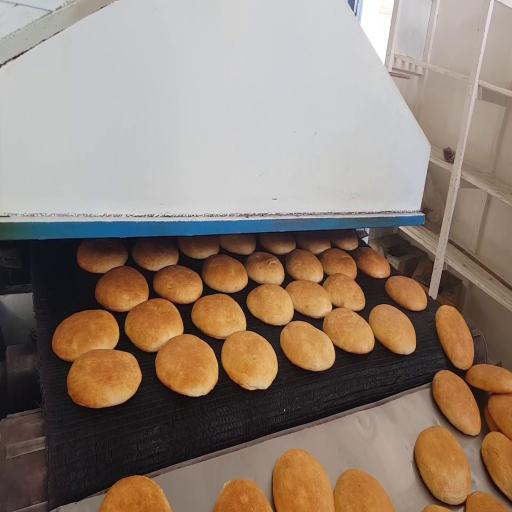bread: (414, 426, 471, 504), (67, 349, 141, 408), (156, 335, 218, 396), (273, 449, 334, 511), (52, 310, 119, 362), (222, 331, 277, 390), (432, 370, 481, 435), (125, 299, 183, 352), (280, 321, 335, 371), (334, 469, 394, 511), (99, 476, 171, 511), (436, 305, 474, 370), (192, 294, 246, 339), (95, 266, 149, 311), (369, 304, 416, 354), (323, 308, 374, 354), (482, 432, 511, 500), (153, 265, 202, 304), (247, 284, 293, 325), (77, 238, 128, 274), (214, 480, 272, 511), (286, 281, 332, 318), (202, 255, 247, 292), (132, 237, 178, 272), (323, 274, 365, 310), (385, 276, 427, 310), (466, 364, 511, 393), (285, 249, 323, 283), (245, 252, 284, 284), (319, 248, 357, 279), (355, 247, 390, 278), (488, 395, 511, 439), (178, 236, 219, 259), (219, 234, 256, 256), (296, 232, 330, 255), (466, 492, 507, 511), (260, 233, 295, 255), (330, 230, 358, 250), (484, 404, 500, 431), (422, 505, 450, 511)
